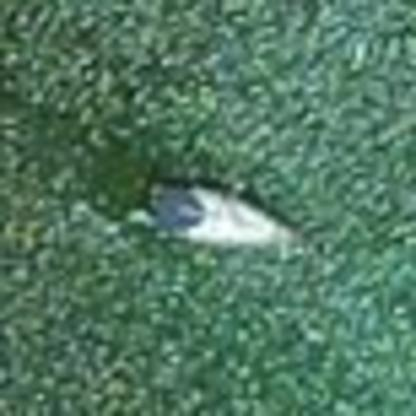ship: (120, 173, 316, 269)
